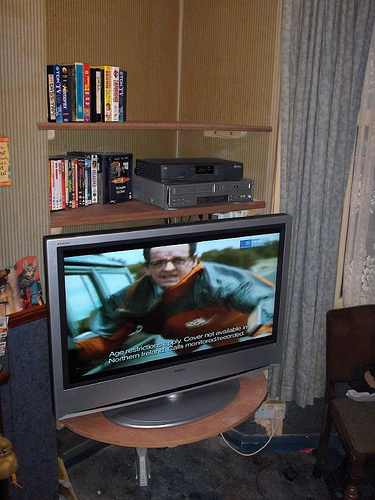without_mask: (141, 242, 202, 287)
